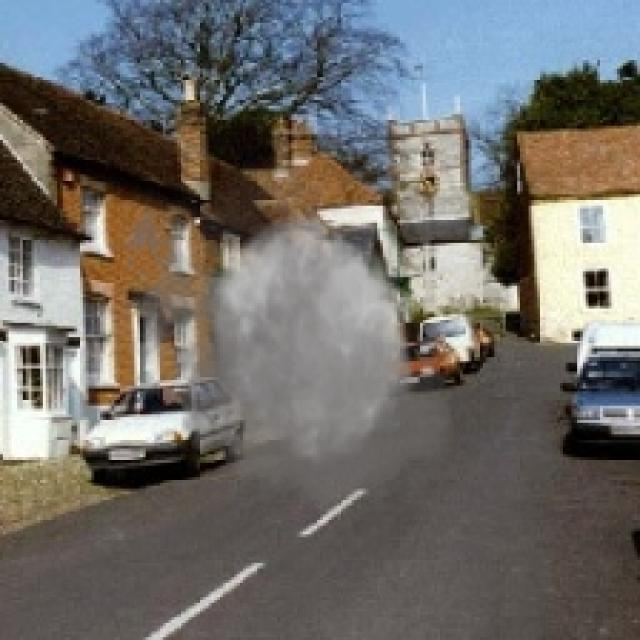Smoke: (111, 146, 466, 532)
